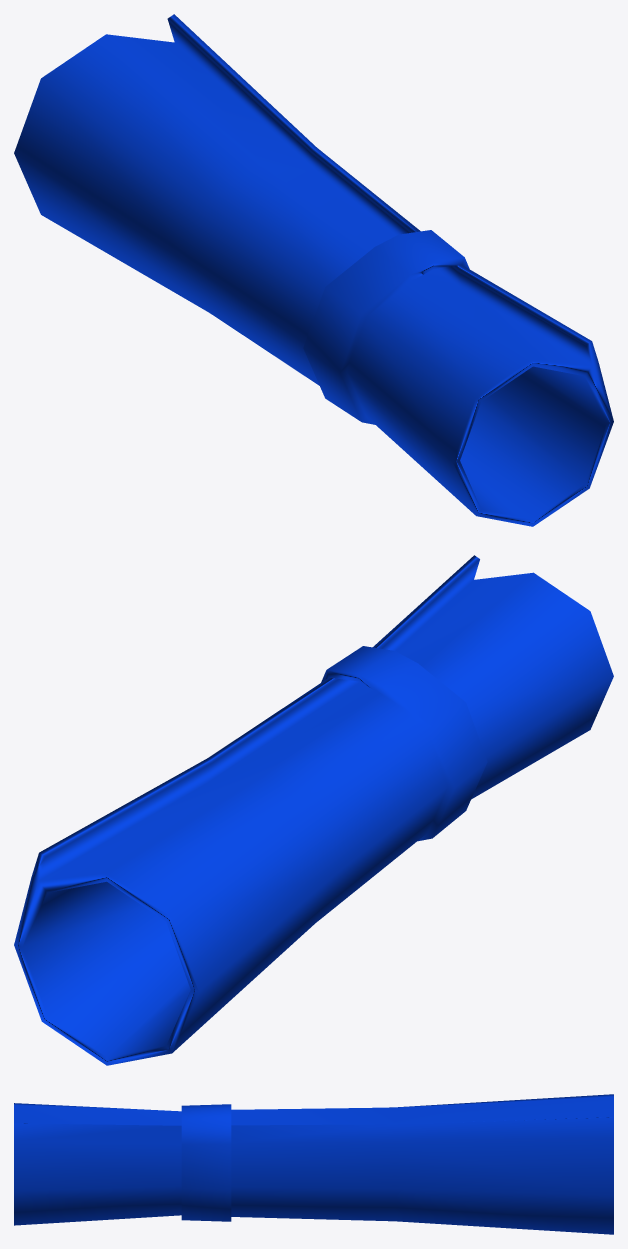
File: Parchment_01.fbx
3 renders of one model, top to bottom at view 1: azimuth 30°, elevation 25°; view 2: azimuth 150°, elevation 25°; view 3: azimuth 270°, elevation 25°, orthographic. The views are drawn at different scales.
Visible parts, largest first — view 1: Parchment_01; view 2: Parchment_01; view 3: Parchment_01.
Part boxes in pixels (box(x1,y1,x2,y2)): Parchment_01: box(14, 14, 613, 526); Parchment_01: box(14, 555, 613, 1065); Parchment_01: box(14, 1094, 613, 1234).
Size of the model in its own units: 11.3 by 11.46 by 45.13.
